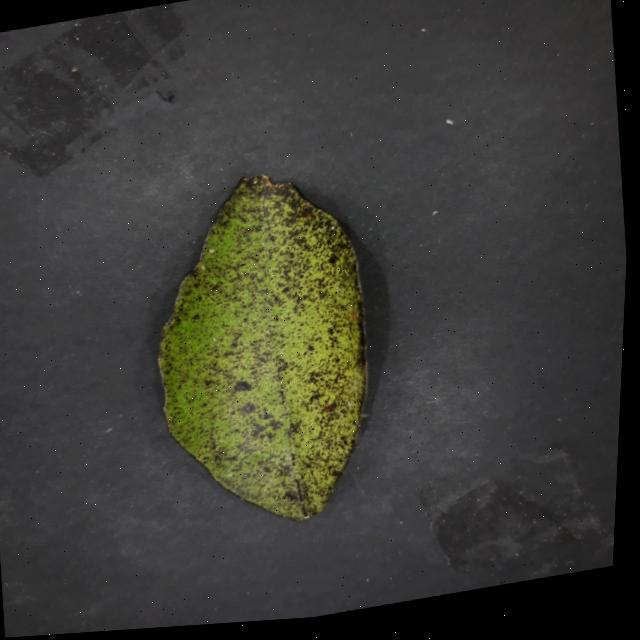greasy_spot: (157, 176, 364, 520)
